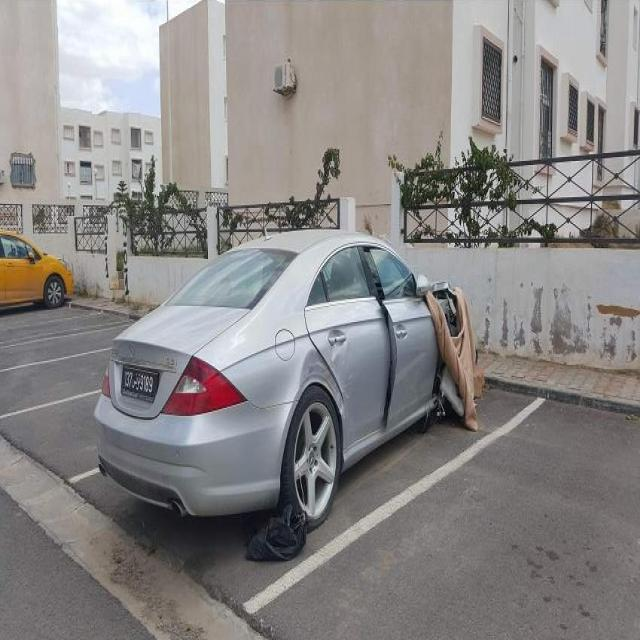licence plate: (123, 370, 157, 396)
